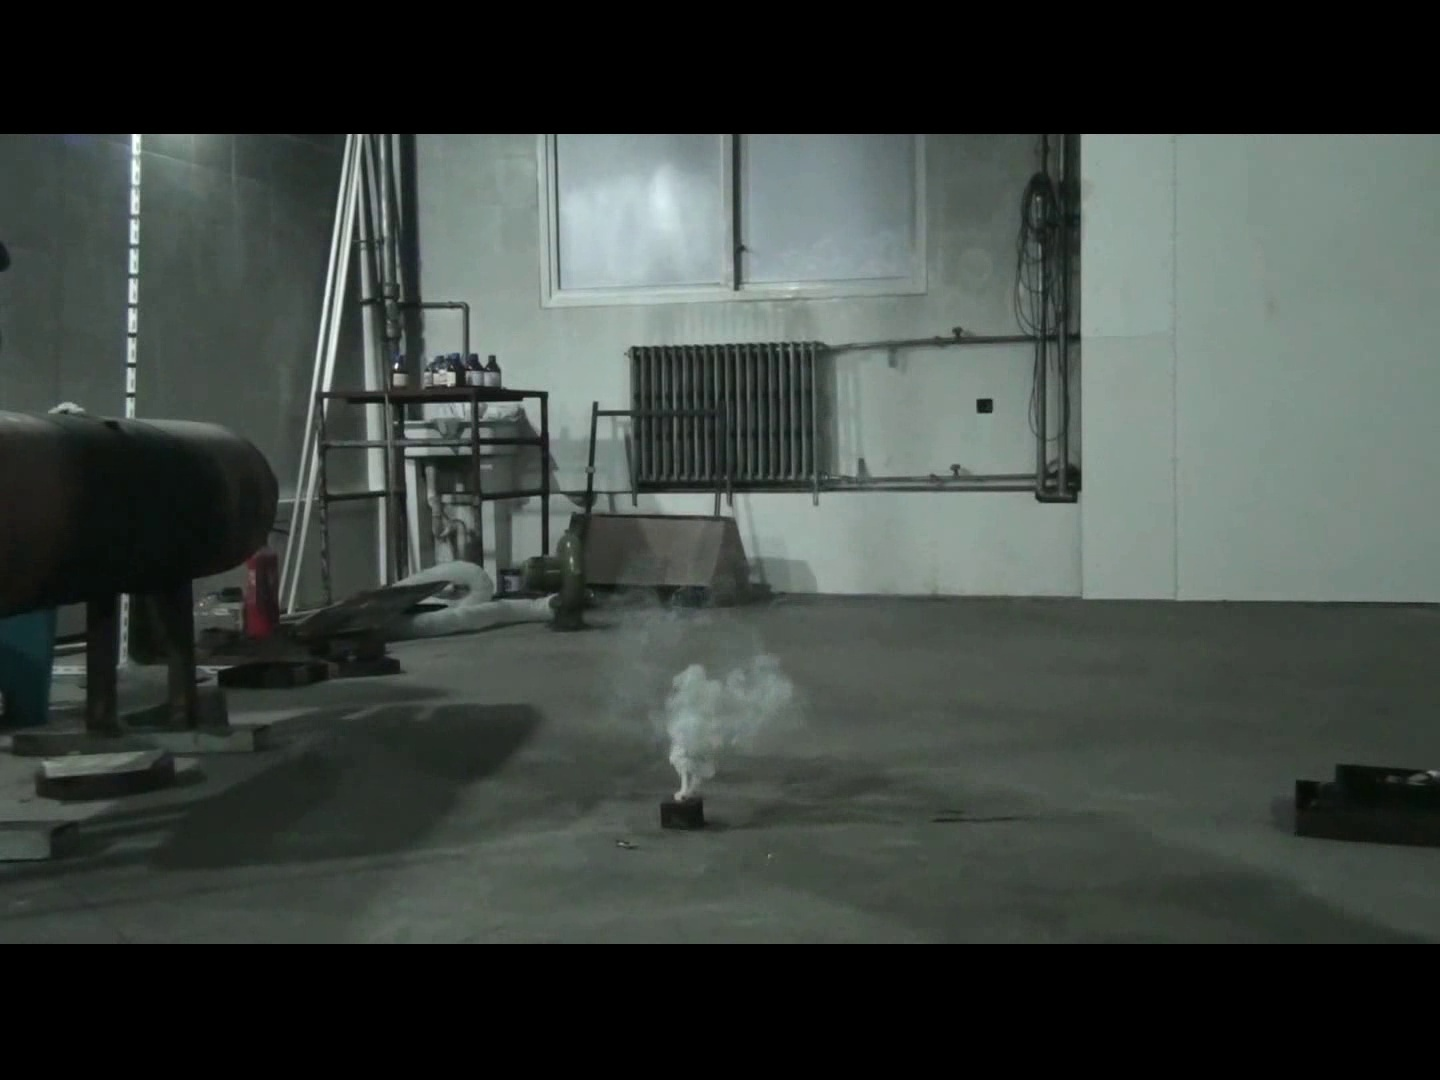smoke: (615, 560, 814, 794)
